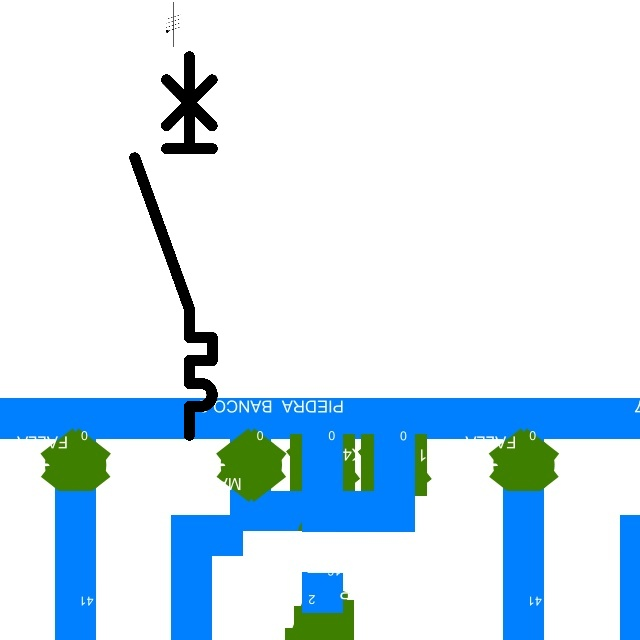interruptor_termomagnetico: (125, 47, 222, 445)
